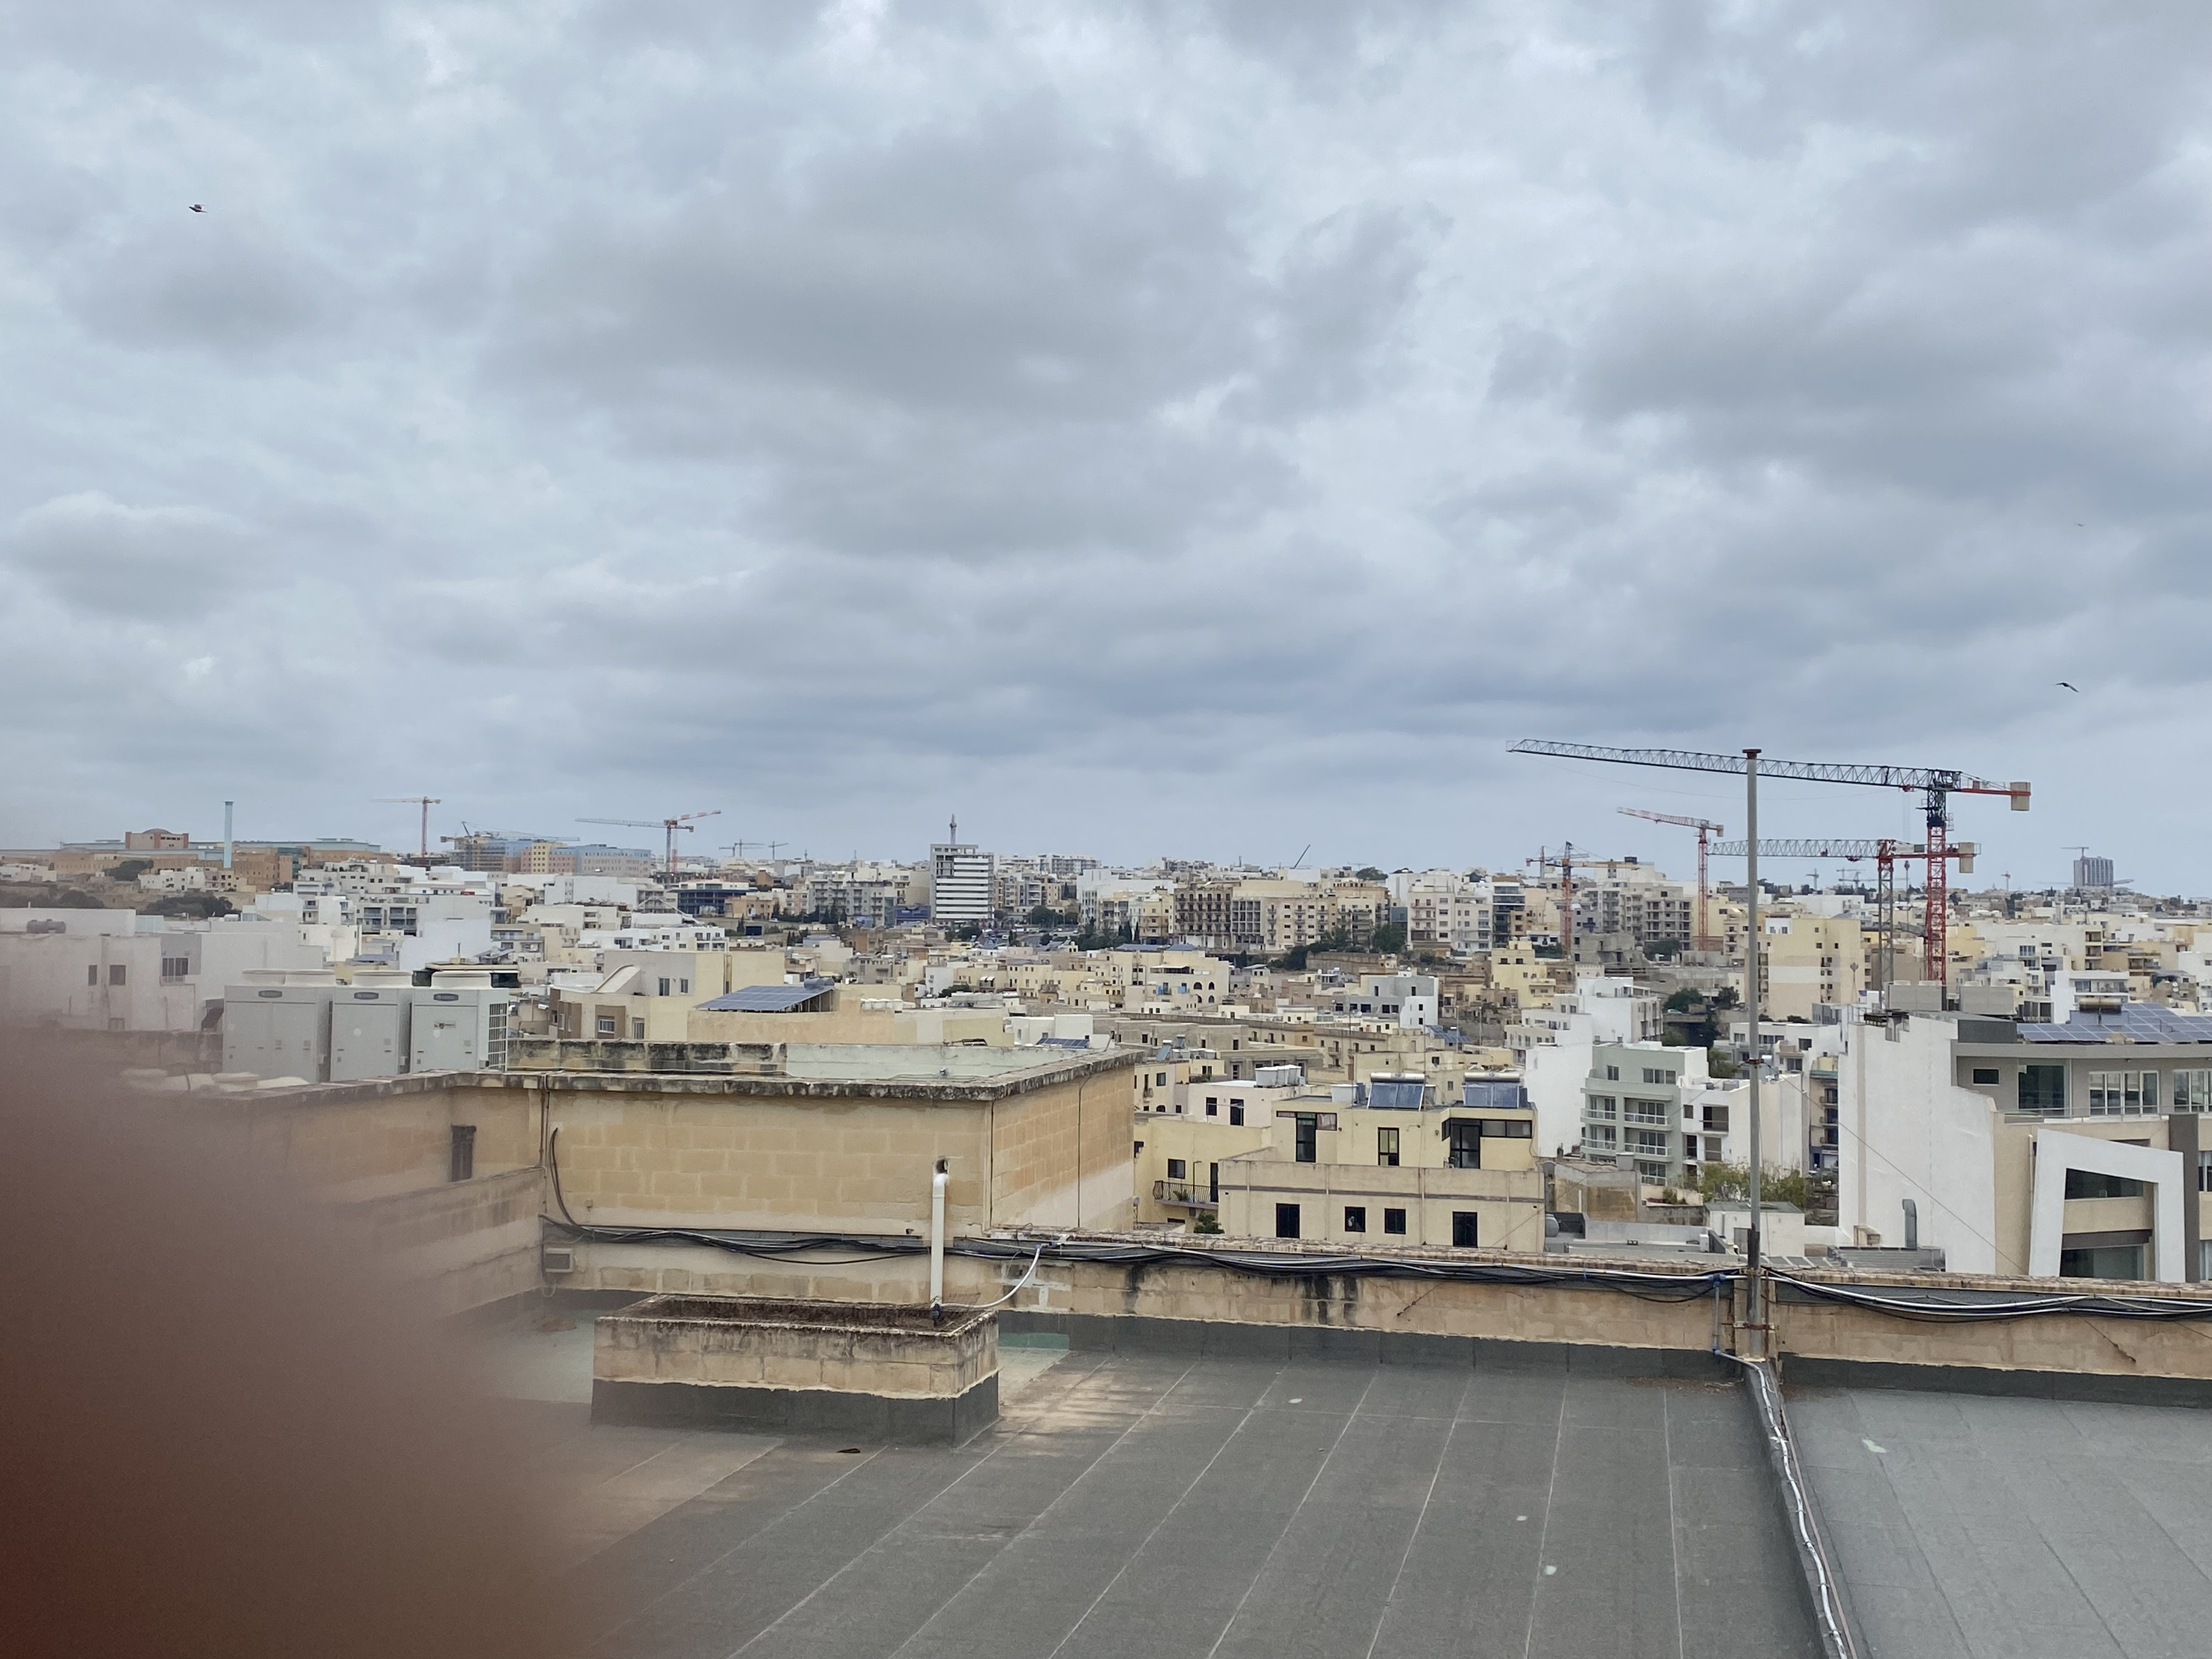Crane: (1486, 720, 2055, 1025), (1698, 819, 1993, 967), (566, 802, 732, 857), (354, 784, 467, 857), (1522, 830, 1644, 896)
